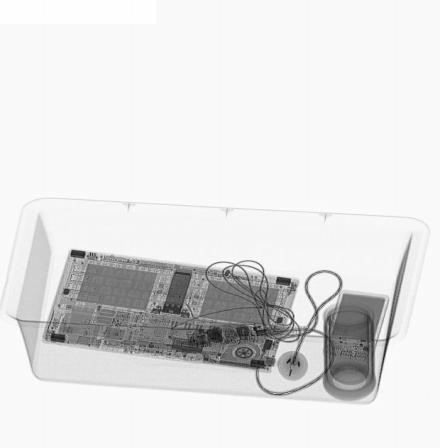Powerbank: (321, 290, 390, 362)
